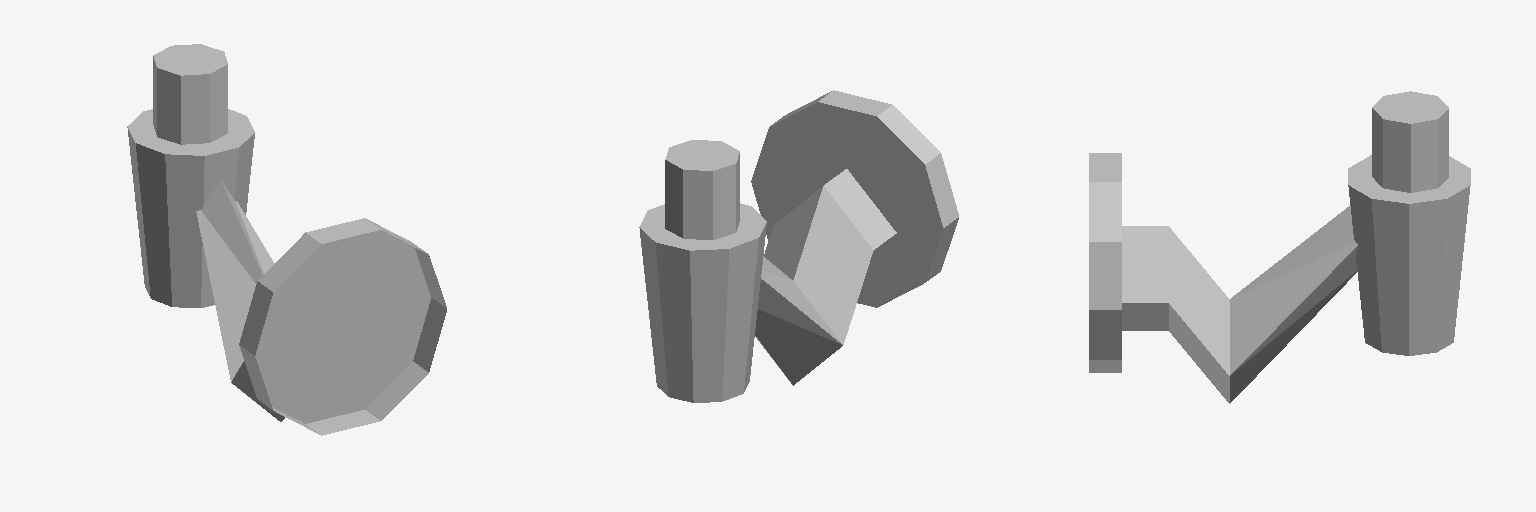
File: Candle.obj
3 views of the same model, side by side, from view 1: azimuth 30°, elevation 25°; view 2: azimuth 150°, elevation 25°; view 3: azimuth 270°, elevation 25° (orthographic).
Size of the model in its own units: 2 by 2.95 by 3.43.